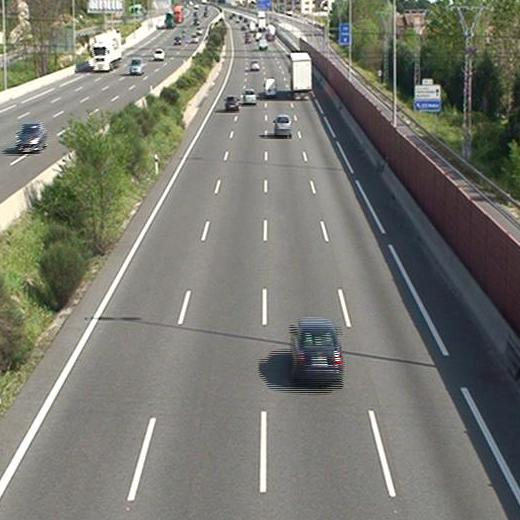car: (290, 319, 343, 380), (274, 115, 292, 137), (225, 96, 240, 110), (243, 89, 256, 104), (251, 60, 260, 70)
truck: (289, 53, 312, 98)
van: (264, 77, 276, 95)
